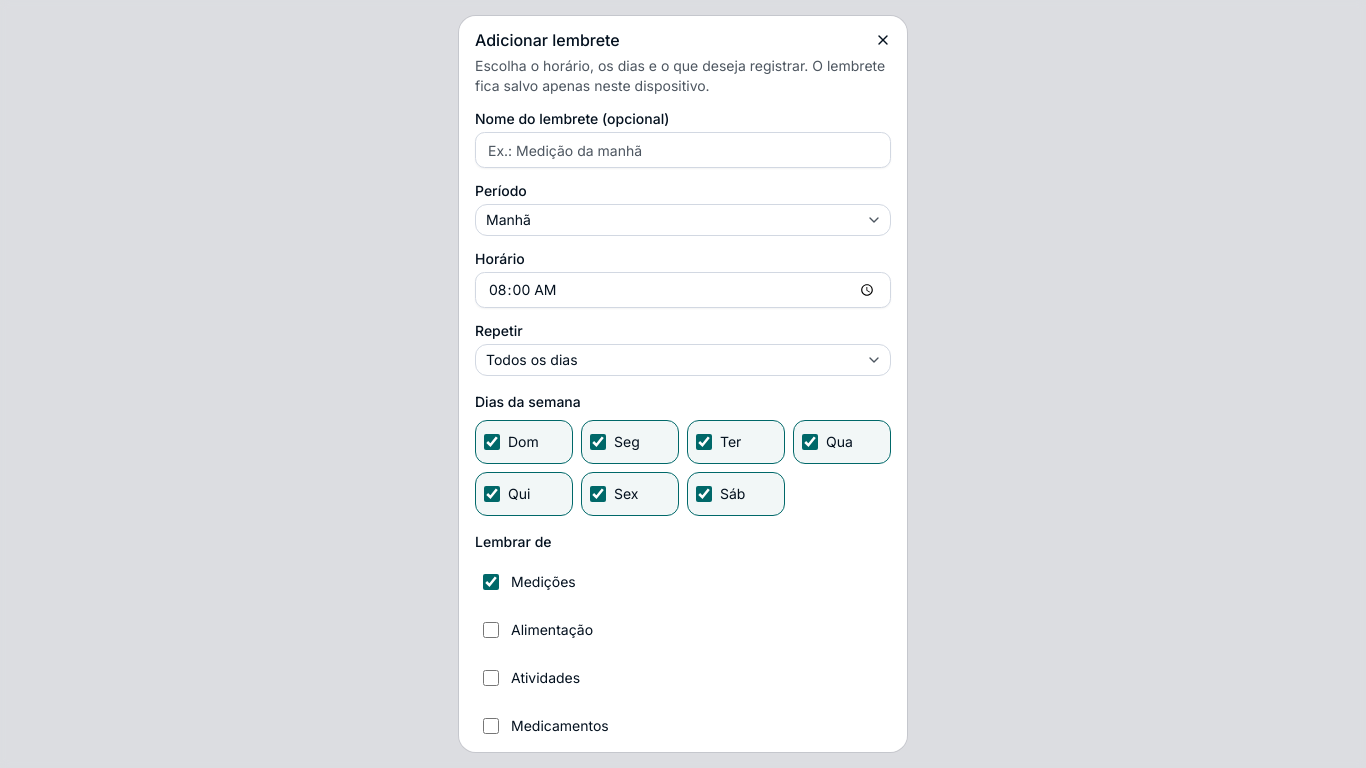
Test: NotificationScheduleDialog › blocks saving when no reminder type is selected
Expected: the heading "Adicionar lembrete" is shown, [475,30,620,50]
What coordinates should you click on to do the following:
click the checkbox labelled "Medições"
I would click on:
 (491, 582)
Its box is [483,574,499,590].
(page scrolled)
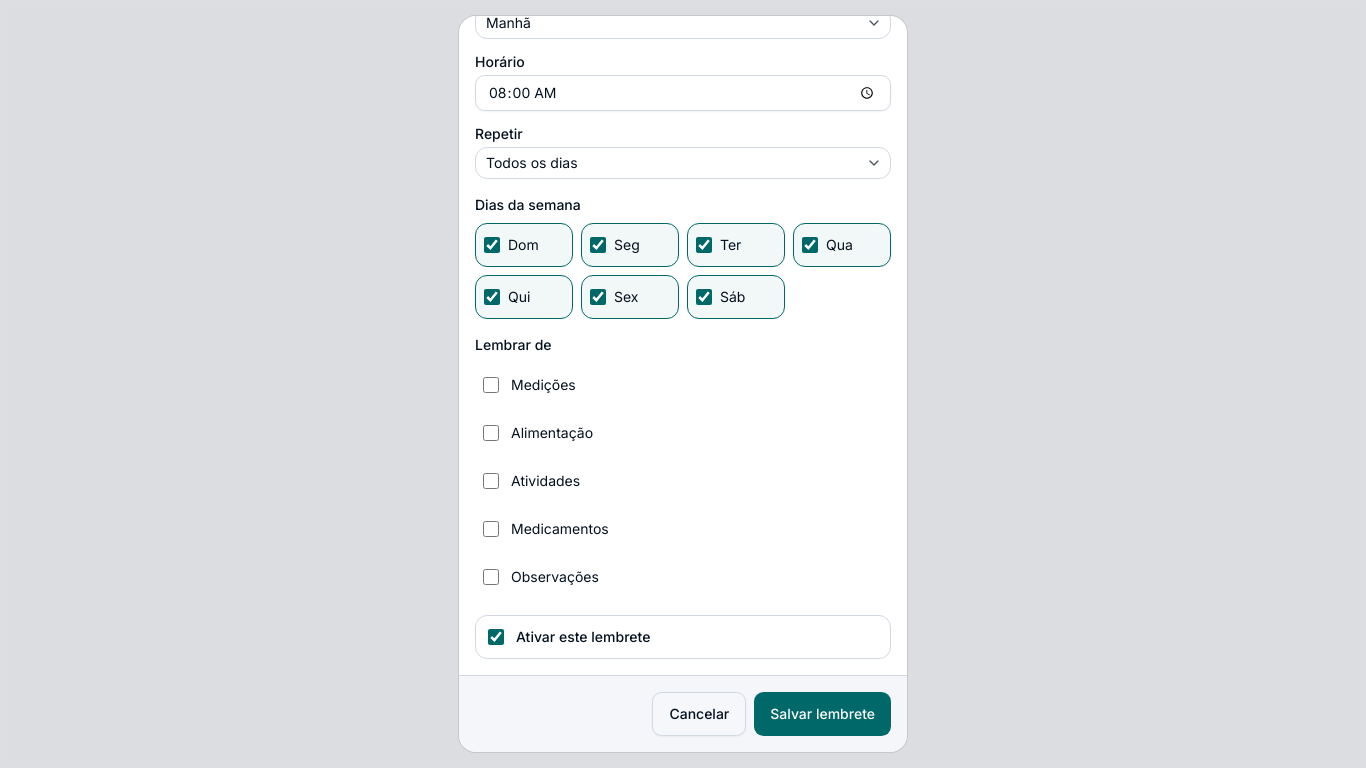
What coordinates should you click on to do the following:
click the button "Salvar lembrete"
I would click on:
 (823, 714)
Its box is [754,692,891,736].
(page scrolled)
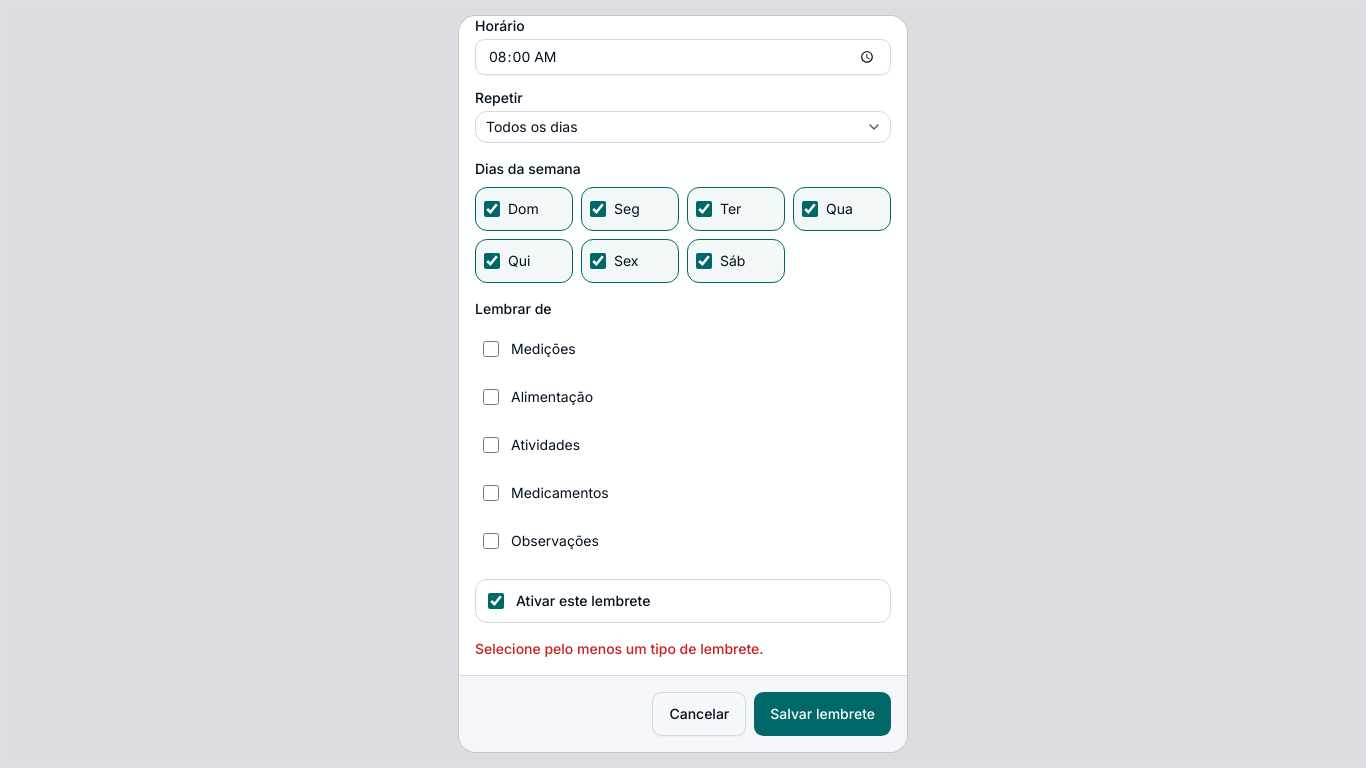
Now the message shows "Selecione pelo menos um tipo de lembrete", box [475,640,764,657]
